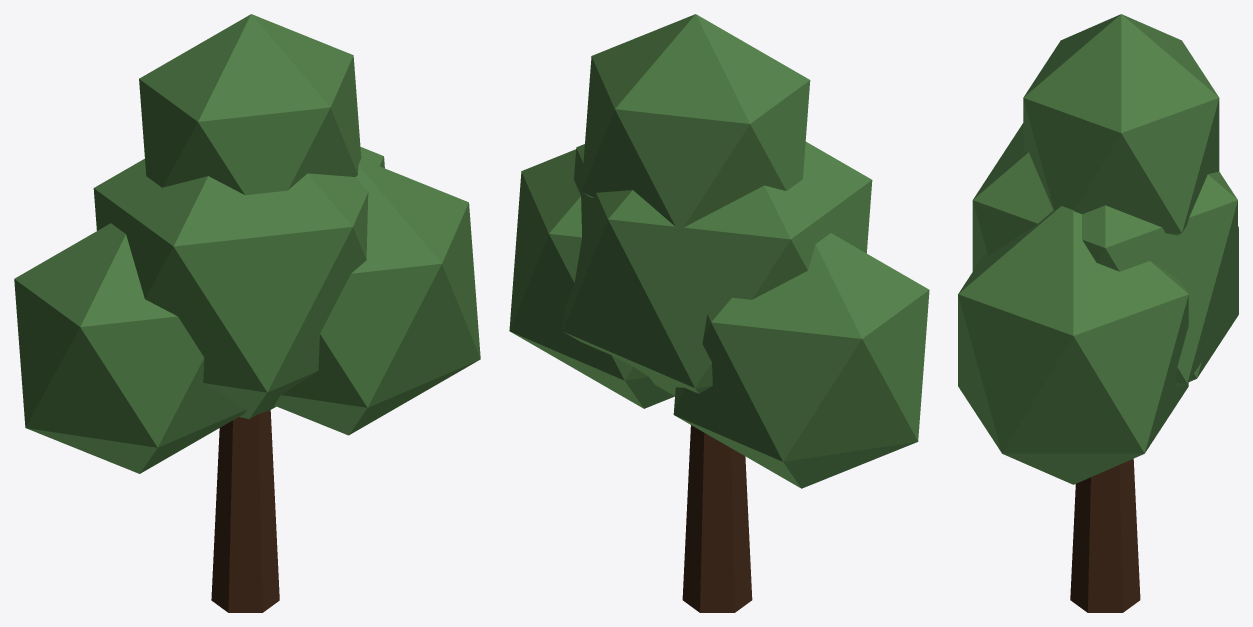
The model's file is tree.glb.
The picture shows the model from 3 angles, left to right: view 1: azimuth 30°, elevation 25°; view 2: azimuth 150°, elevation 25°; view 3: azimuth 270°, elevation 25°; orthographic projection. The views are drawn at different scales.
Visible parts, largest first — view 1: tree; view 2: tree; view 3: tree.
Boxes of the visible parts, bbox=[...] form: tree: bbox=[14, 14, 480, 612]; tree: bbox=[509, 14, 929, 612]; tree: bbox=[958, 14, 1238, 612].
Size of the model in its own units: 0.6188 by 0.82 by 0.352.
